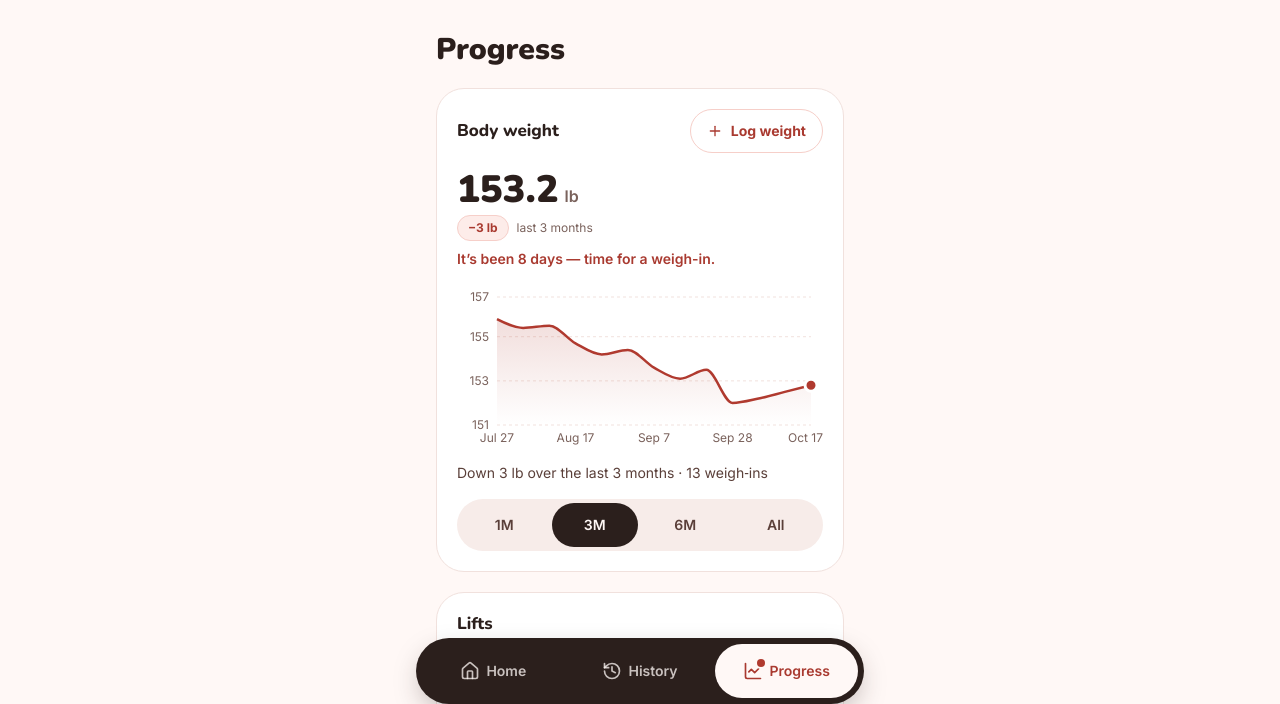
Test: Body weight › logs a weight (same insert as before) and clears the nav dot
Expected: the heading "Body weight" is shown, [457,120,559,142]
Expected: the link named "Progress, weigh-in due" is shown, [715,644,858,698]
Click the button "Log weight".
click(756, 131)  # box [690,109,823,153]
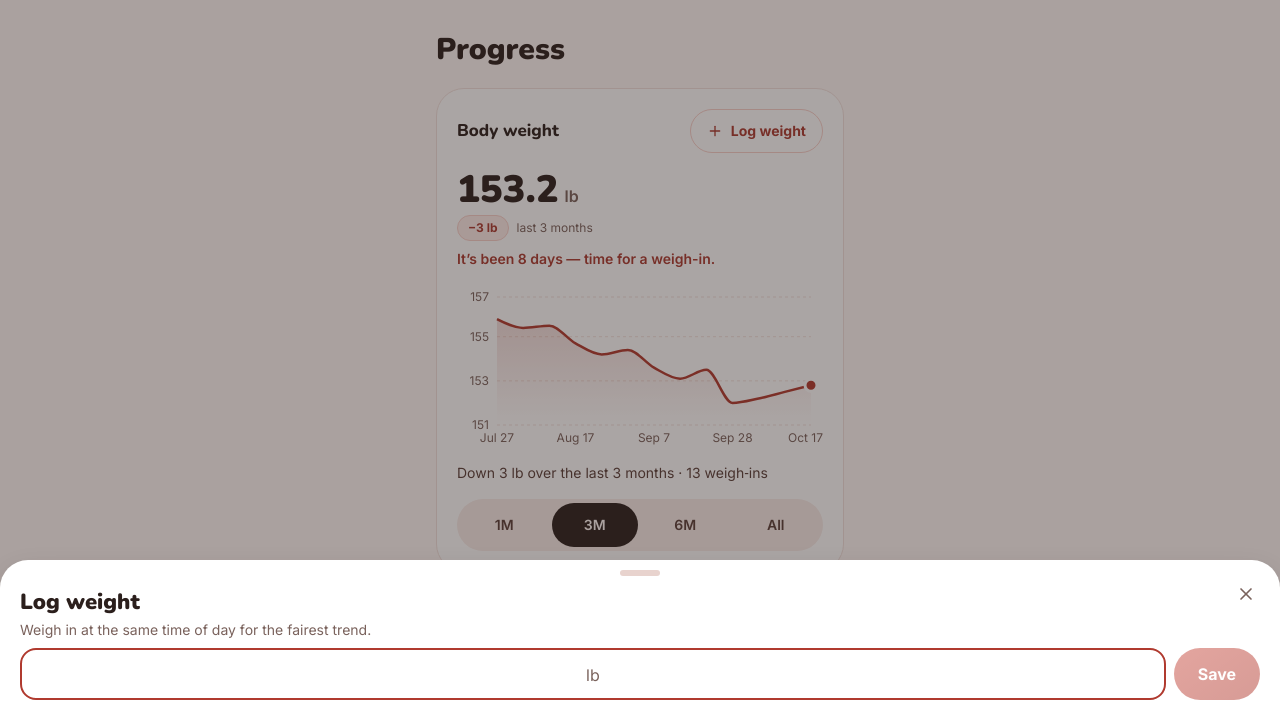
Type "152.8" into the number field named "Body weight (lb)".
click(593, 674); type("152.8")  # box [20,648,1166,700]
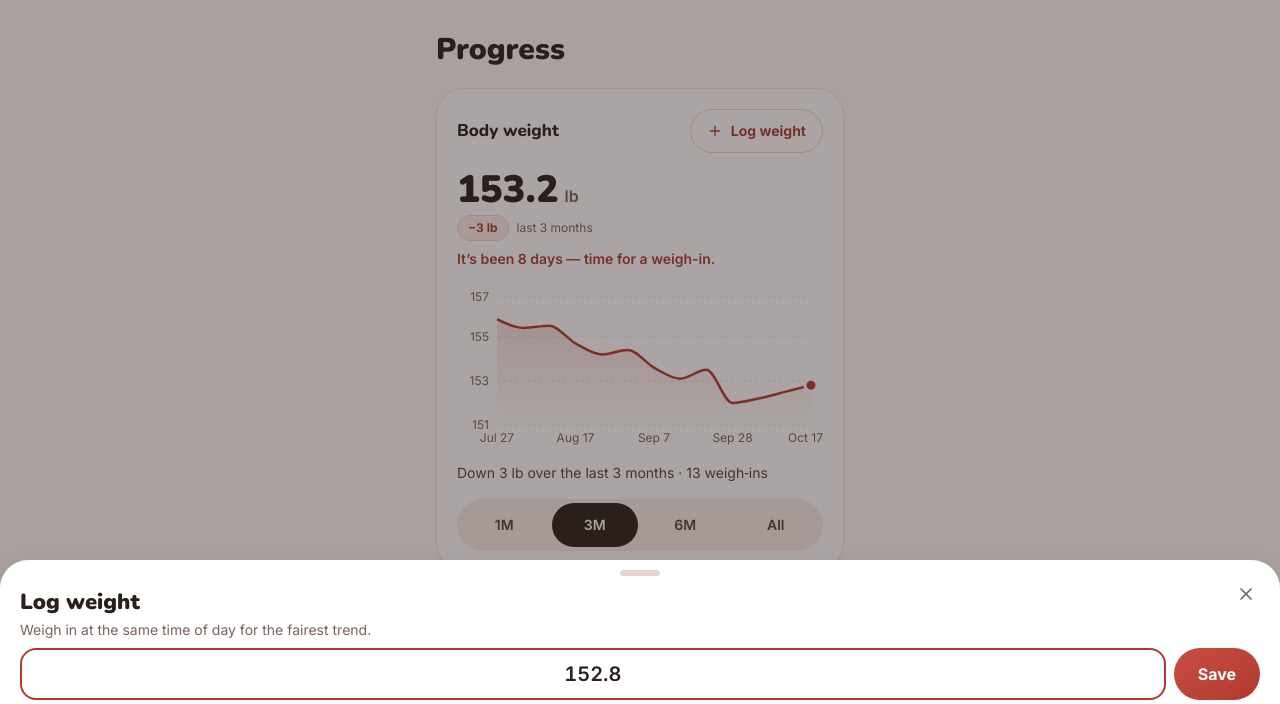
Click the button "Save".
click(1217, 674)  # box [1174,648,1260,700]
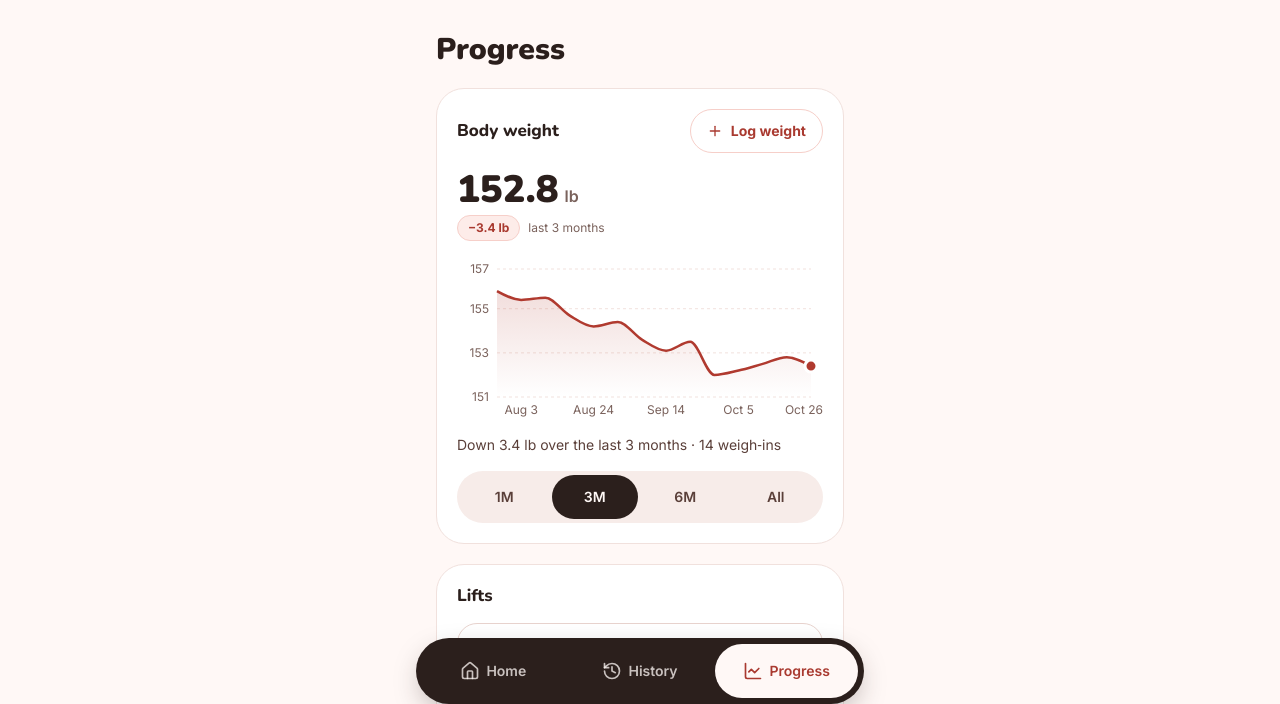
Expected: the link "Progress" is shown, [715,644,858,698]
Expected: the text "time for a weigh-in" is gone
